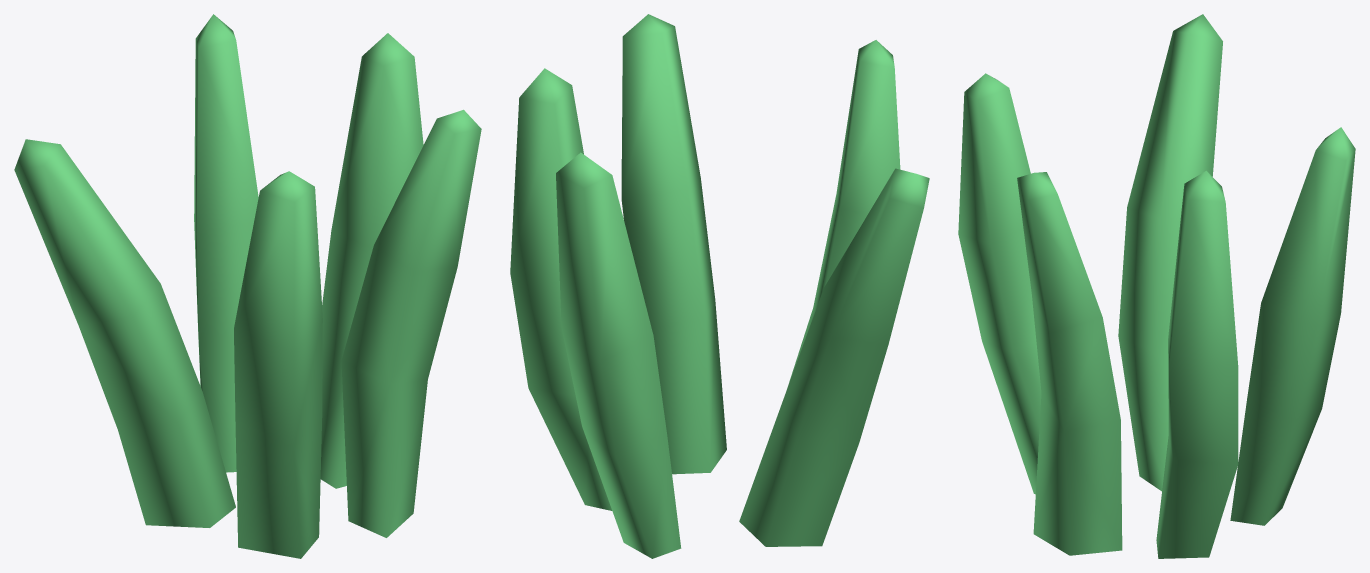
File: Grass_A_04_LOD2.gltf
3 renders of one model, left to right at view 1: azimuth 30°, elevation 25°; view 2: azimuth 150°, elevation 25°; view 3: azimuth 270°, elevation 25°, orthographic. The views are drawn at different scales.
Parts seen in each view (by area): view 1: Grass_A_04_LOD2_Cube.720; view 2: Grass_A_04_LOD2_Cube.720; view 3: Grass_A_04_LOD2_Cube.720.
Part boxes in pixels (x1,y1,x2,y2): Grass_A_04_LOD2_Cube.720: (14,14,481,558); Grass_A_04_LOD2_Cube.720: (510,14,929,558); Grass_A_04_LOD2_Cube.720: (958,14,1355,558).
Size of the model in its own units: 3.18 by 3.19 by 2.83.
Materials: 1 (1 with a texture image).
